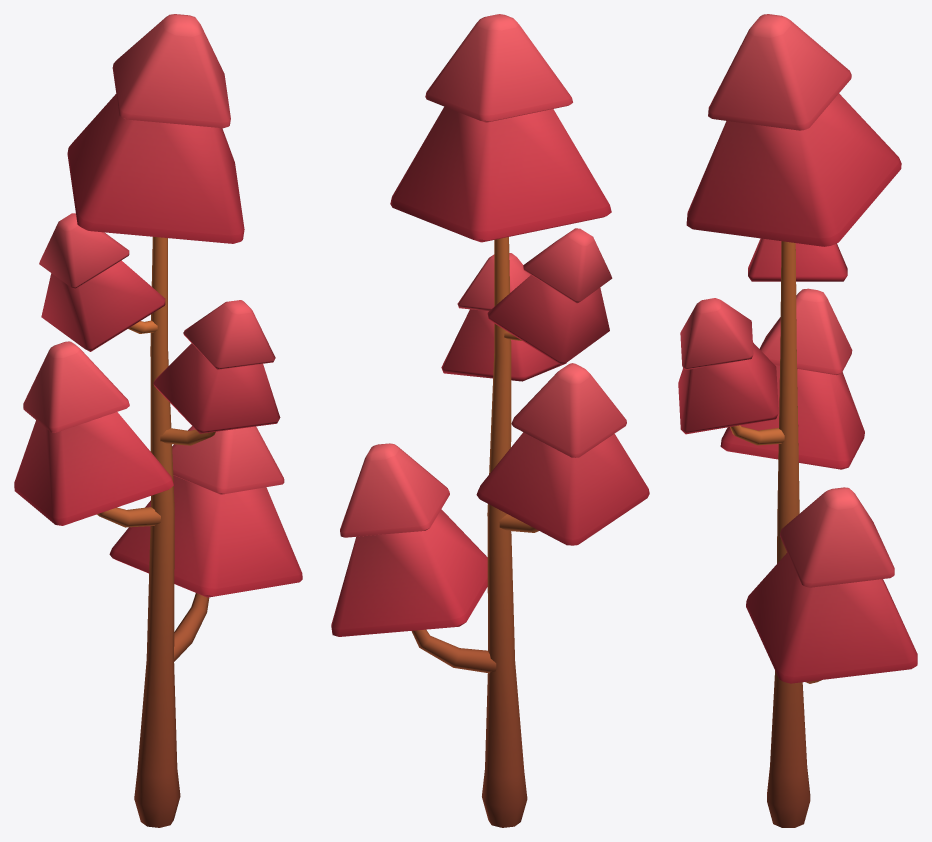
File: Tree_4_C_Color7.fbx
3 views of the same model, side by side, from view 1: azimuth 30°, elevation 25°; view 2: azimuth 150°, elevation 25°; view 3: azimuth 270°, elevation 25° (orthographic). The views are drawn at different scales.
Visible parts, largest first — view 1: Tree_4_C_Color7; view 2: Tree_4_C_Color7; view 3: Tree_4_C_Color7.
Boxes of the visible parts, x1=… form: Tree_4_C_Color7: x1=14, y1=14, x2=302, y2=827; Tree_4_C_Color7: x1=331, y1=14, x2=649, y2=827; Tree_4_C_Color7: x1=678, y1=14, x2=917, y2=827.
Size of the model in its own units: 3.74 by 10.77 by 2.87.
